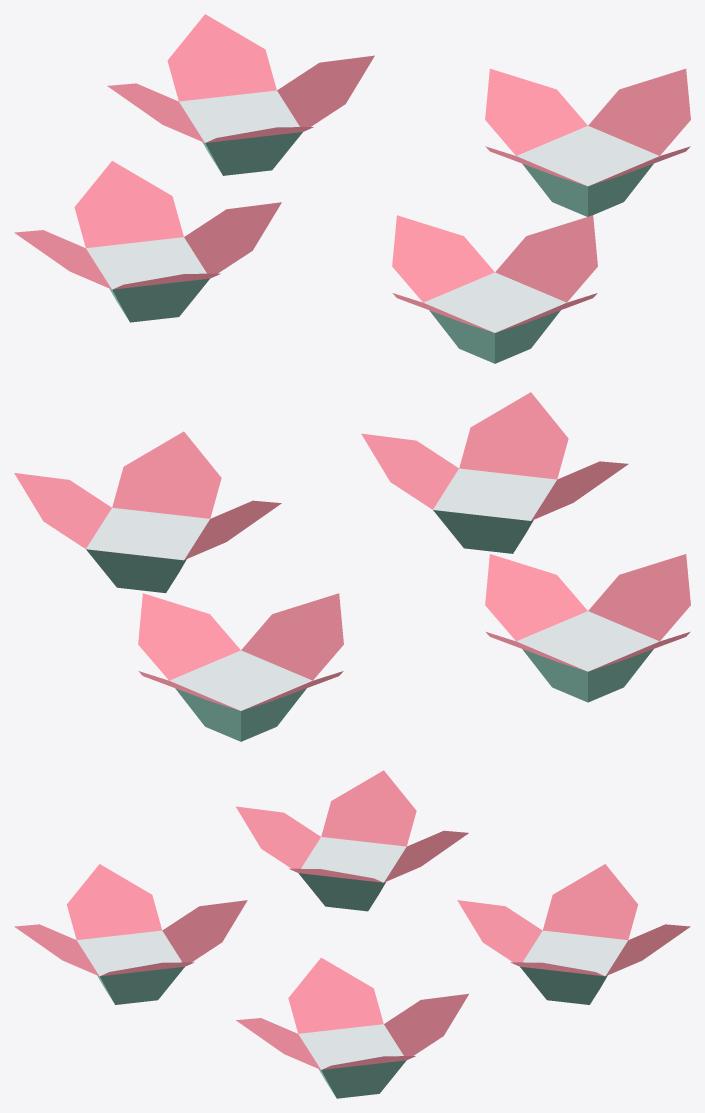
3 views of the same model, one above another, from view 1: azimuth 30°, elevation 25°; view 2: azimuth 150°, elevation 25°; view 3: azimuth 270°, elevation 25° (orthographic). The views are drawn at different scales.
Visible parts, largest first — view 1: flowersLow; view 2: flowersLow; view 3: flowersLow.
Part boxes in pixels (bbox=[...]): flowersLow: bbox=[14, 14, 690, 363]; flowersLow: bbox=[14, 392, 690, 741]; flowersLow: bbox=[14, 770, 690, 1098].
Size of the model in its own units: 0.7639 by 0.1 by 0.7639.
